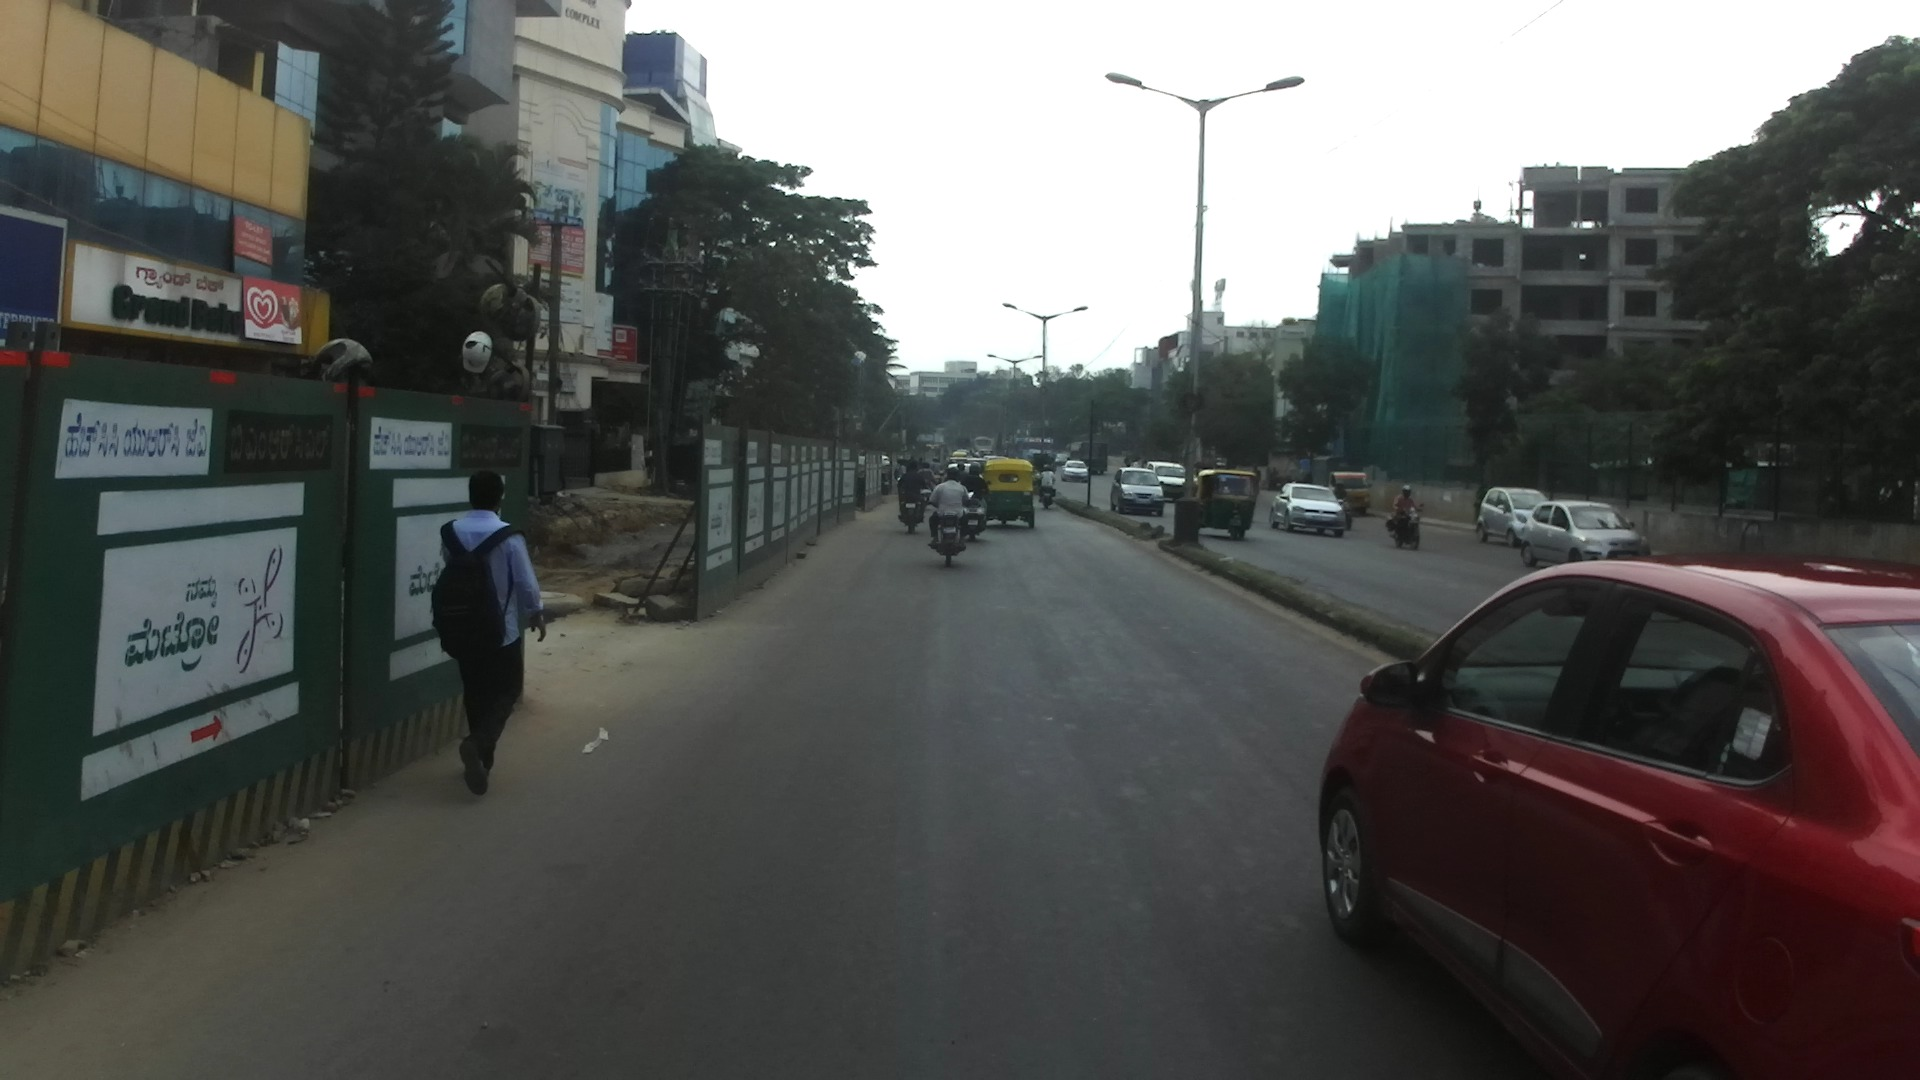autorickshaw: (1196, 468, 1259, 541), (983, 458, 1036, 528), (951, 452, 967, 458)
bus: (1013, 435, 1053, 465), (1080, 442, 1108, 476), (974, 436, 995, 457)
car: (1315, 554, 1920, 1080), (1520, 499, 1652, 570), (1476, 486, 1551, 547), (1270, 481, 1345, 537), (1108, 467, 1165, 516), (1147, 461, 1194, 500), (947, 464, 983, 487), (1059, 461, 1090, 482), (984, 454, 1008, 465), (948, 457, 969, 470), (969, 458, 987, 470), (1054, 454, 1068, 467)
motorcycle: (928, 491, 972, 567), (958, 480, 991, 541), (1386, 501, 1424, 549), (896, 477, 924, 533), (1336, 496, 1352, 528), (1040, 482, 1056, 510), (919, 486, 934, 502), (1270, 475, 1283, 490), (932, 470, 944, 487)
person: (430, 469, 549, 793), (1251, 466, 1262, 493)
rider: (930, 467, 971, 549), (899, 462, 927, 523), (1393, 486, 1420, 540), (962, 461, 989, 513), (1038, 463, 1057, 505), (919, 464, 940, 489), (894, 458, 908, 484), (955, 461, 969, 487), (1333, 482, 1346, 509), (1271, 467, 1281, 489), (931, 458, 942, 475), (1129, 457, 1141, 468), (941, 455, 949, 469), (973, 449, 980, 459), (917, 457, 924, 465), (1143, 460, 1149, 472), (908, 455, 915, 461), (1068, 457, 1071, 460)
truck: (1311, 457, 1374, 515)
vehicle fallback: (956, 448, 972, 456)
